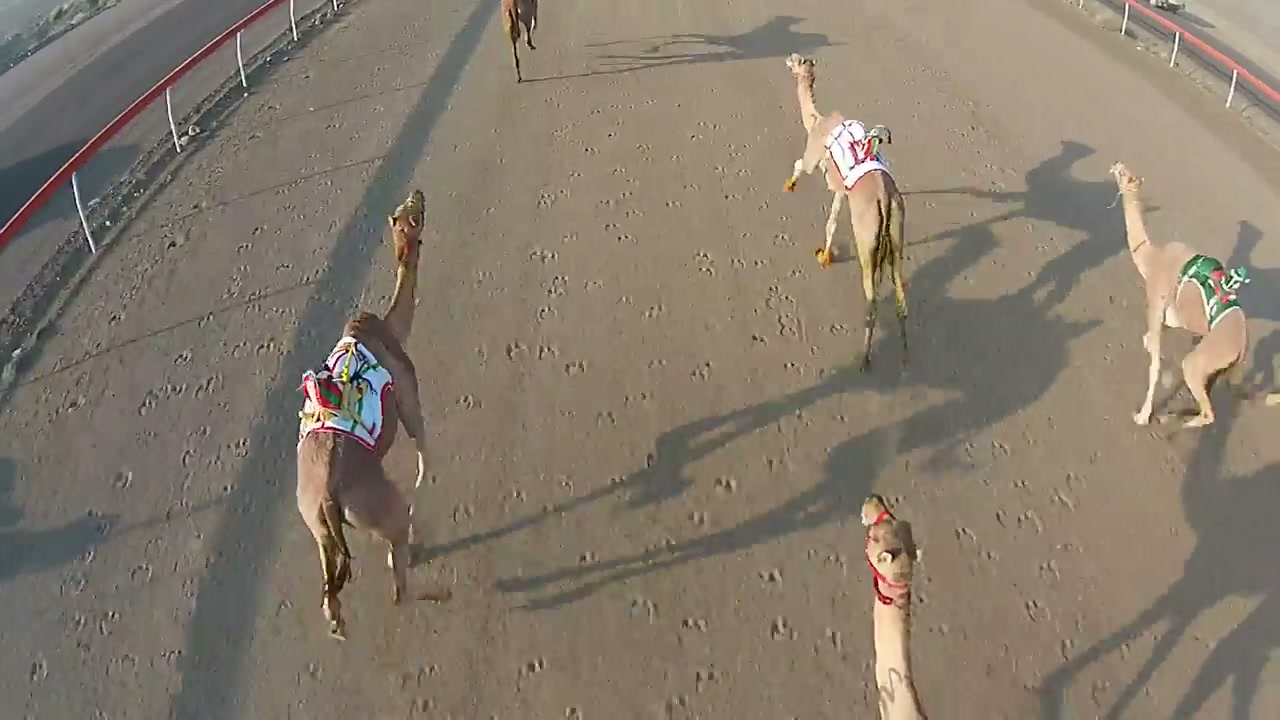animal_foot_print: (473, 91, 855, 719)
